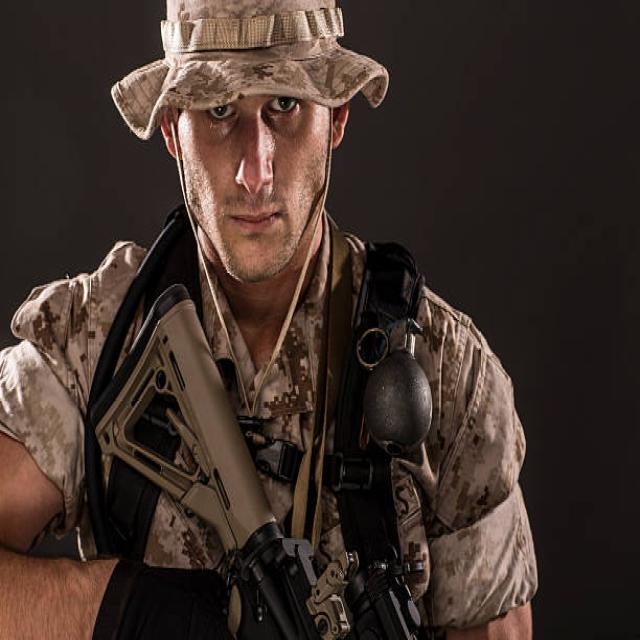grenade: (355, 312, 443, 466)
